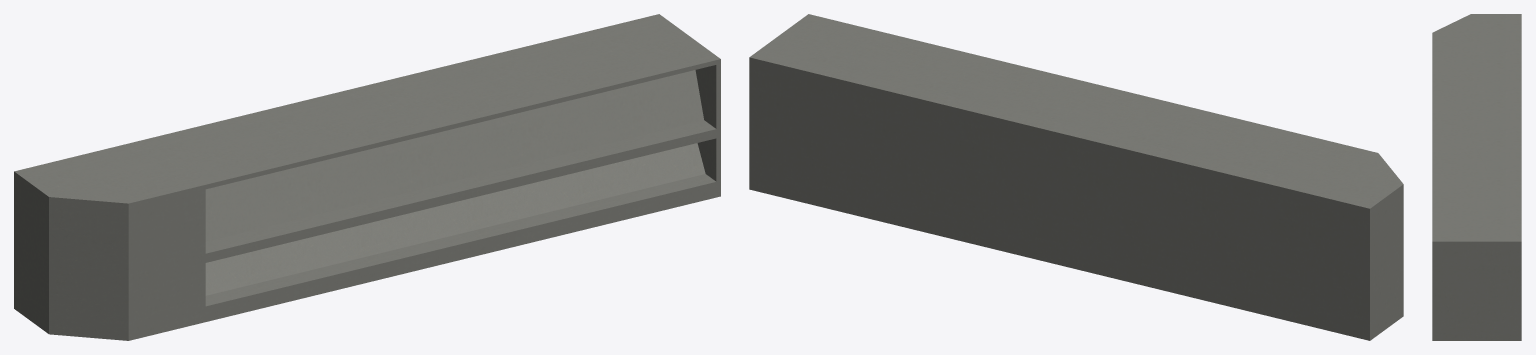
The model's file is SM_Shelf_02.fbx.
3 renders of one model, left to right at view 1: azimuth 30°, elevation 25°; view 2: azimuth 150°, elevation 25°; view 3: azimuth 270°, elevation 25°, orthographic. The views are drawn at different scales.
Visible parts, largest first — view 1: SM_Shelf_02; view 2: SM_Shelf_02; view 3: SM_Shelf_02.
Part boxes in pixels (x1=…): SM_Shelf_02: x1=14, y1=14, x2=720, y2=340; SM_Shelf_02: x1=749, y1=14, x2=1403, y2=340; SM_Shelf_02: x1=1432, y1=14, x2=1521, y2=340.
Bounding box in the file's own units: 583 × 119 × 96.44.
1 material, 1 textured.
